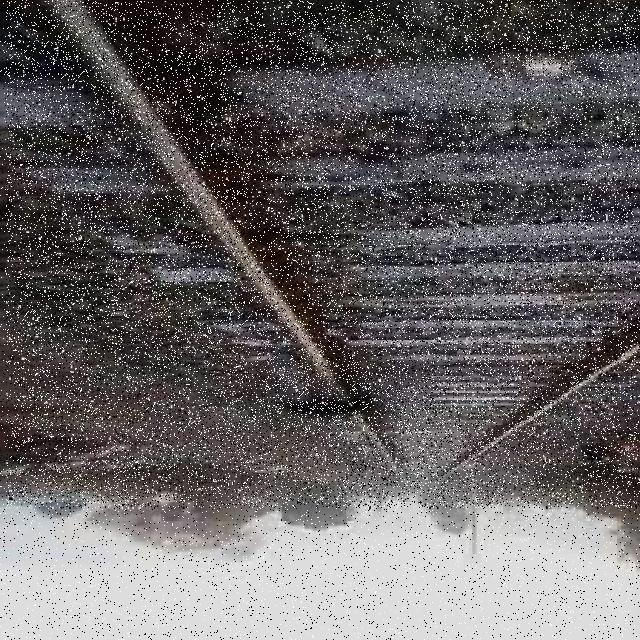rail: (7, 2, 640, 509)
